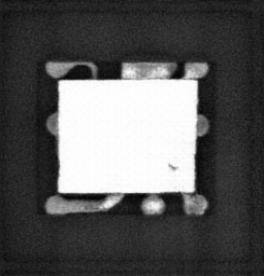DIE_INK: (166, 161, 178, 172)
